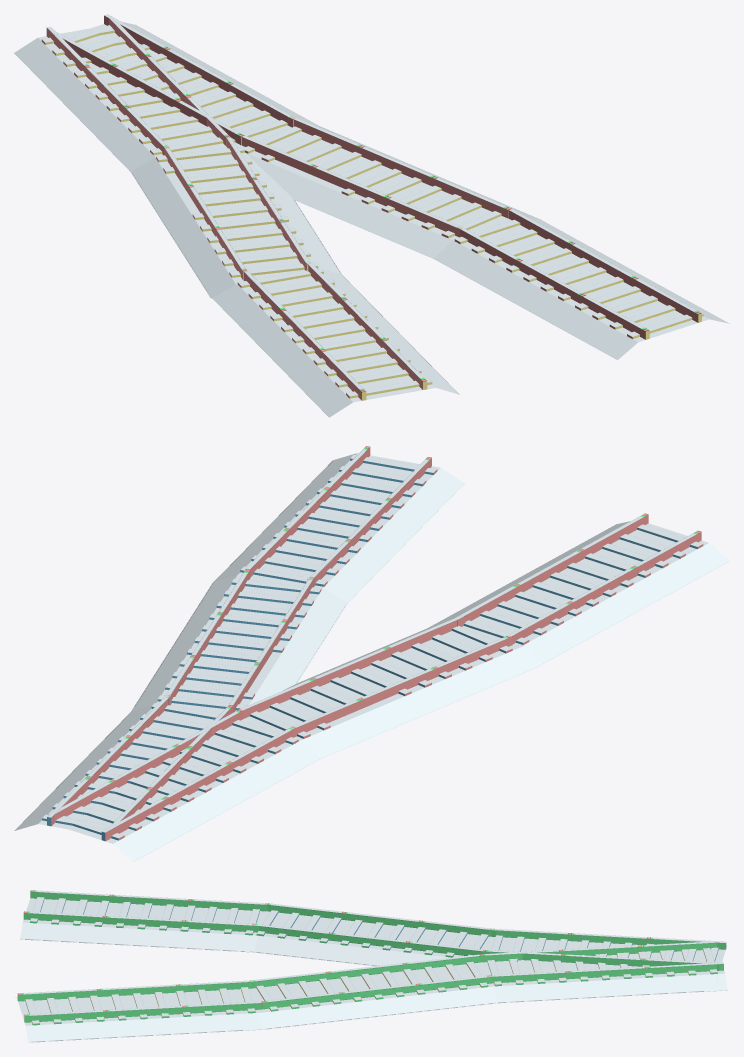
Rendered from train tracks-fork.fbx.
3 views of the same model, one above another, from view 1: azimuth 30°, elevation 25°; view 2: azimuth 150°, elevation 25°; view 3: azimuth 270°, elevation 25° (orthographic). The views are drawn at different scales.
Parts seen in each view (by area): view 1: cuboid_17, cuboid_14, cuboid_8, cuboid_5, cuboid_11, cuboid_2, cuboid_4, cuboid_3, cuboid_6, cuboid_7, cuboid, cuboid_1 (+6 smaller); view 2: cuboid_8, cuboid_5, cuboid_17, cuboid_14, cuboid_11, cuboid_2, cuboid_12, cuboid_13, cuboid_10, cuboid_16, cuboid_15, cuboid_9 (+6 smaller); view 3: cuboid_8, cuboid_5, cuboid_17, cuboid_2, cuboid_14, cuboid_7, cuboid_6, cuboid_16, cuboid_15, cuboid, cuboid_3, cuboid_4 (+6 smaller).
Boxes of the visible parts, x1,y1,x2,y2 form: cuboid_17: (212,267,459,417); cuboid_14: (131,144,341,298); cuboid_8: (434,217,729,359); cuboid_5: (240,125,540,258); cuboid_11: (14,25,239,171); cuboid_2: (47,22,318,145); cuboid_4: (241,135,461,237); cuboid_3: (288,116,511,218); cuboid_6: (508,209,701,322); cuboid_7: (458,226,649,339); cuboid: (104,14,295,127); cuboid_1: (52,31,244,144); cuboid_8: (214,453,464,602); cuboid_5: (131,574,347,713); cuboid_17: (428,521,729,663); cuboid_14: (243,626,542,758); cuboid_11: (35,719,320,861); cuboid_2: (14,701,232,834); cuboid_12: (240,615,465,718); cuboid_13: (287,636,512,736); cuboid_10: (101,726,295,841); cuboid_16: (506,530,701,643); cuboid_15: (453,513,648,626); cuboid_9: (48,709,243,822); cuboid_8: (16,988,264,1042); cuboid_5: (249,962,497,1029); cuboid_17: (20,898,266,952); cuboid_2: (482,950,727,1003); cuboid_14: (253,911,488,966); cuboid_7: (17,980,255,1001); cuboid_6: (24,1001,261,1022); cuboid_16: (30,890,267,911); cuboid_15: (23,911,259,932); cuboid: (486,962,723,983); cuboid_3: (261,976,492,1009); cuboid_4: (249,954,480,988).
Bounding box in the file's own units: 1214 × 57.81 × 2469.
3 materials, 3 textured.
